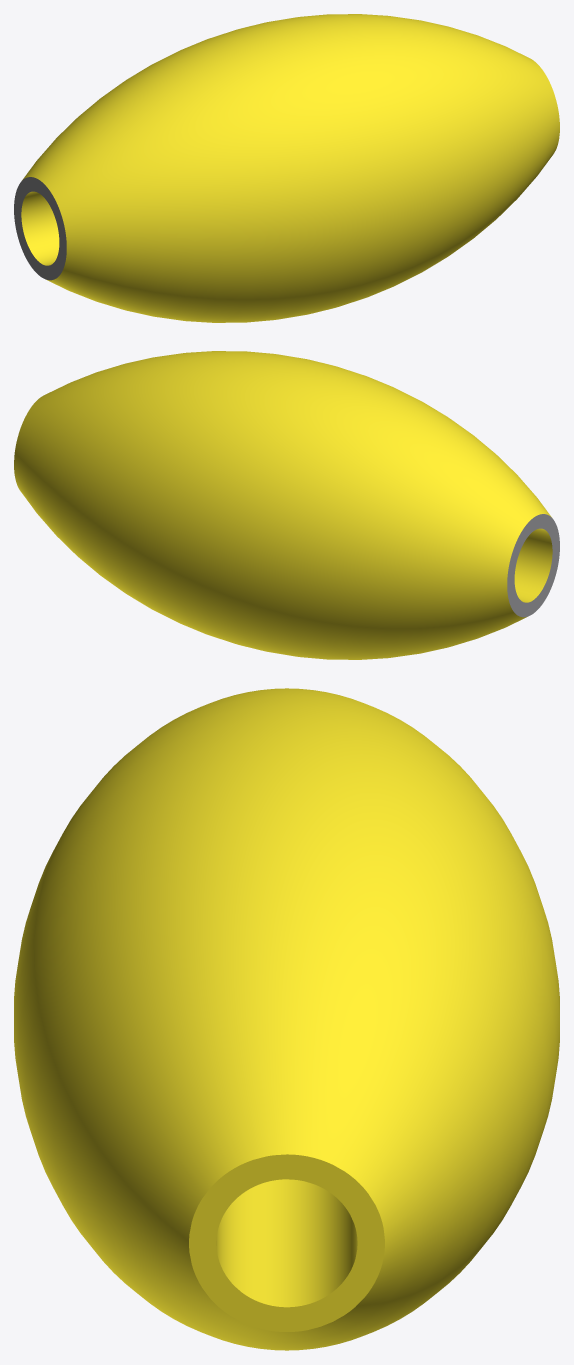
Rendered from Ovaal geel 2.glb.
3 views of the same model, one above another, from view 1: azimuth 30°, elevation 25°; view 2: azimuth 150°, elevation 25°; view 3: azimuth 270°, elevation 25° (orthographic). The views are drawn at different scales.
Bounding box in the file's own units: 0.015 × 0.00774 × 0.00774.
